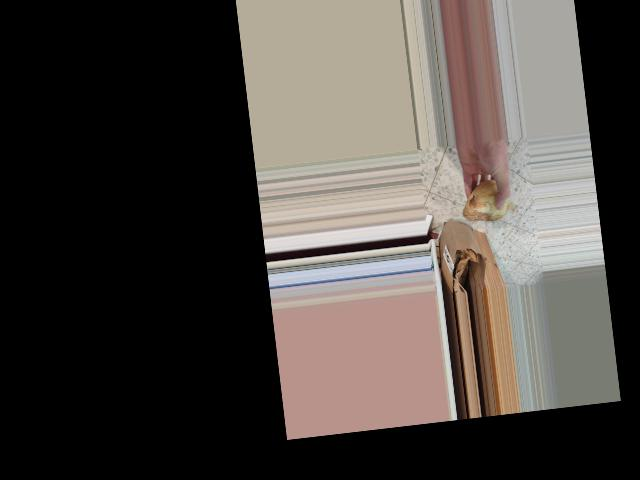onion: (459, 173, 514, 231)
